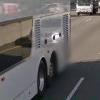Bus: (4, 3, 75, 97)
